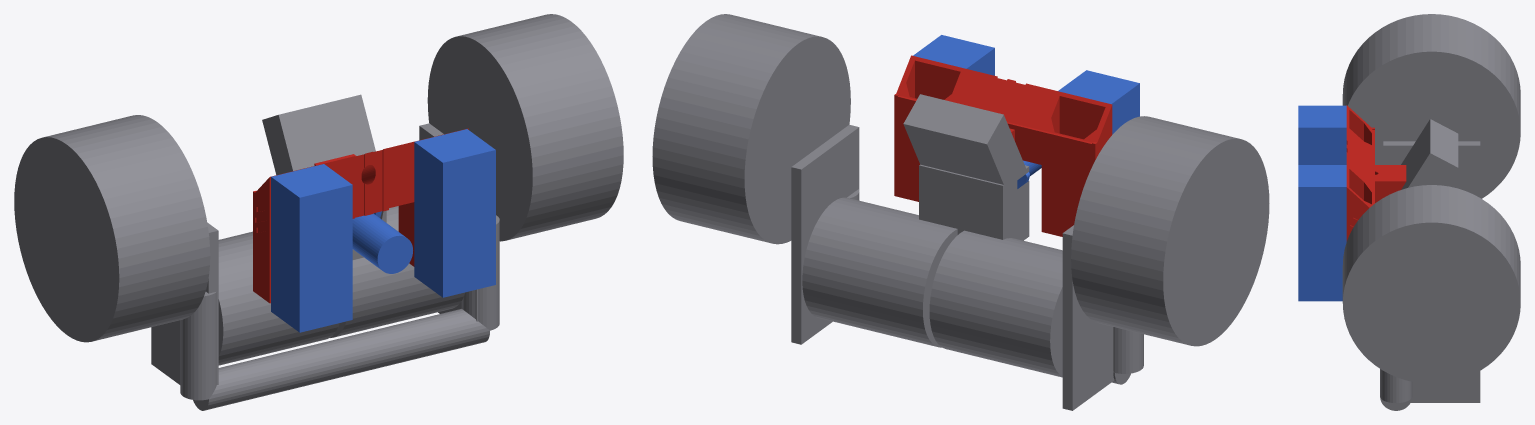
Rendered from rear_assembly_r7.obj.
3 renders of one model, left to right at view 1: azimuth 30°, elevation 25°; view 2: azimuth 150°, elevation 25°; view 3: azimuth 270°, elevation 25°, orthographic. The views are drawn at different scales.
Visible parts, largest first — view 1: wheels_schematic, bar_c_schematic, light_placeholder_0, light_placeholder_1, motors_schematic, rear_hanger_schematic, rear_mount, charging_plug_column; view 2: wheels_schematic, motors_schematic, rear_hanger_schematic, rear_mount, light_placeholder_1, light_placeholder_0, bar_c_schematic; view 3: wheels_schematic, light_placeholder_0, rear_hanger_schematic, rear_mount, light_placeholder_1, bar_c_schematic.
Boxes of the visible parts, x1=… form: wheels_schematic: x1=14, y1=14, x2=623, y2=342; bar_c_schematic: x1=180, y1=215, x2=499, y2=410; light_placeholder_0: x1=414, y1=129, x2=495, y2=297; light_placeholder_1: x1=271, y1=164, x2=352, y2=332; motors_schematic: x1=218, y1=206, x2=465, y2=365; rear_hanger_schematic: x1=151, y1=94, x2=478, y2=384; rear_mount: x1=253, y1=128, x2=468, y2=303; charging_plug_column: x1=352, y1=213, x2=412, y2=273; wheels_schematic: x1=652, y1=14, x2=1269, y2=346; motors_schematic: x1=802, y1=197, x2=1062, y2=377; rear_hanger_schematic: x1=791, y1=94, x2=1114, y2=410; rear_mount: x1=894, y1=55, x2=1112, y2=236; light_placeholder_1: x1=1058, y1=70, x2=1139, y2=134; light_placeholder_0: x1=913, y1=35, x2=994, y2=75; bar_c_schematic: x1=847, y1=189, x2=1143, y2=384; wheels_schematic: x1=1342, y1=14, x2=1520, y2=383; light_placeholder_0: x1=1298, y1=165, x2=1346, y2=301; rear_hanger_schematic: x1=1383, y1=119, x2=1480, y2=402; rear_mount: x1=1346, y1=105, x2=1406, y2=241; light_placeholder_1: x1=1298, y1=105, x2=1346, y2=164; bar_c_schematic: x1=1380, y1=369, x2=1412, y2=410.
Bounding box in the file's own units: 305 × 160 × 138.
